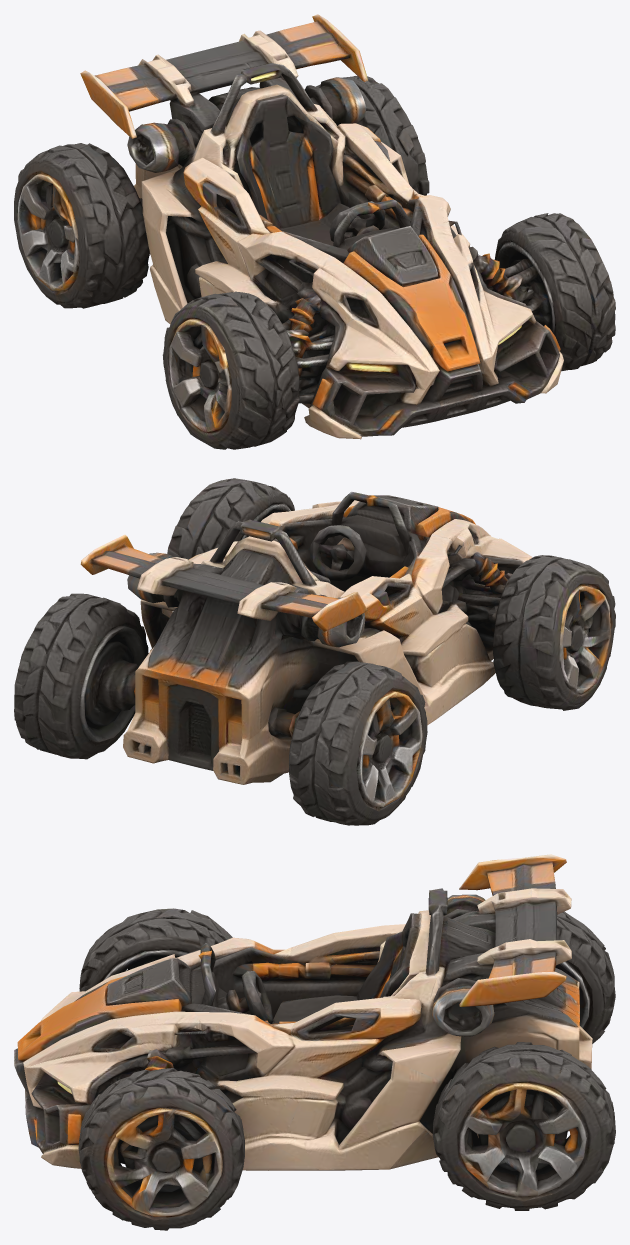
The model's file is 07-amber-dune.glb.
The picture shows the model from 3 angles, top to bottom: view 1: azimuth 30°, elevation 25°; view 2: azimuth 150°, elevation 25°; view 3: azimuth 270°, elevation 25°; orthographic projection. The views are drawn at different scales.
Parts seen in each view (by area): view 1: 07-amber-dune; view 2: 07-amber-dune; view 3: 07-amber-dune.
Part boxes in pixels (left/top/right/bottom): 07-amber-dune: left=14, top=14, right=615, bottom=449; 07-amber-dune: left=14, top=478, right=615, bottom=825; 07-amber-dune: left=14, top=854, right=615, bottom=1230.
Size of the model in its own units: 1.49 by 0.8412 by 1.9.
1 material, 1 textured.
